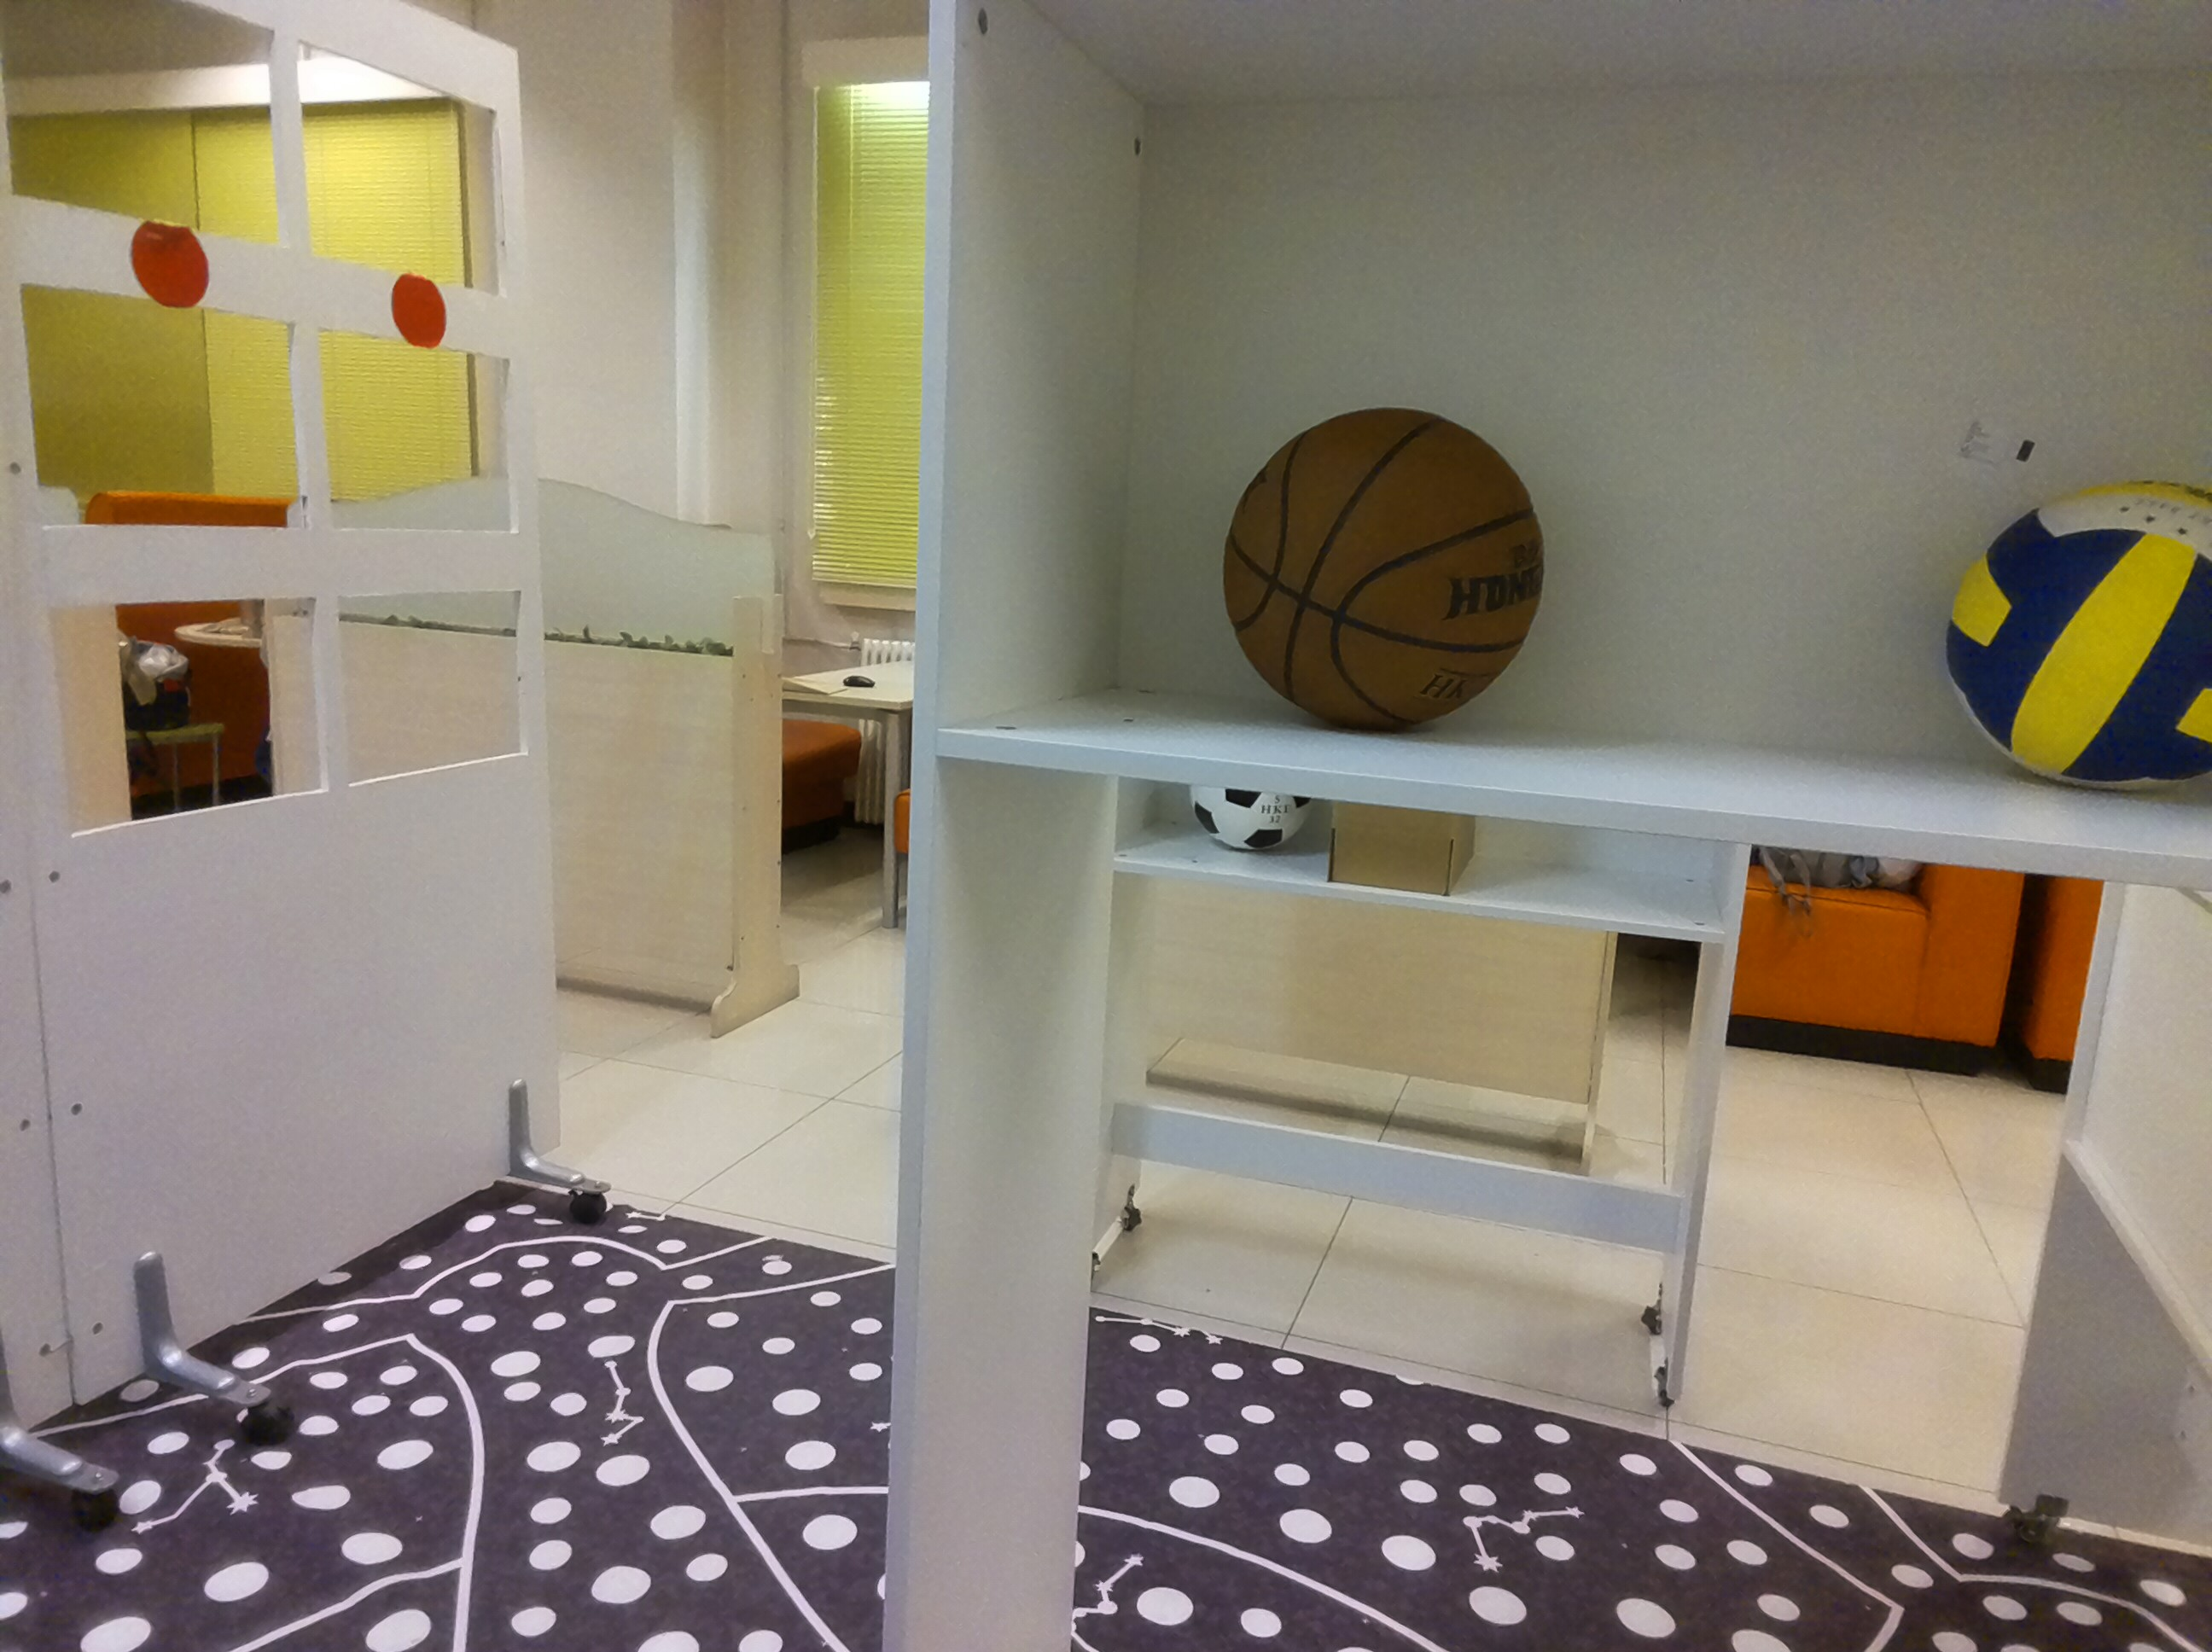basketball: (1207, 387, 1554, 750)
volleyball: (1922, 474, 2210, 812)
